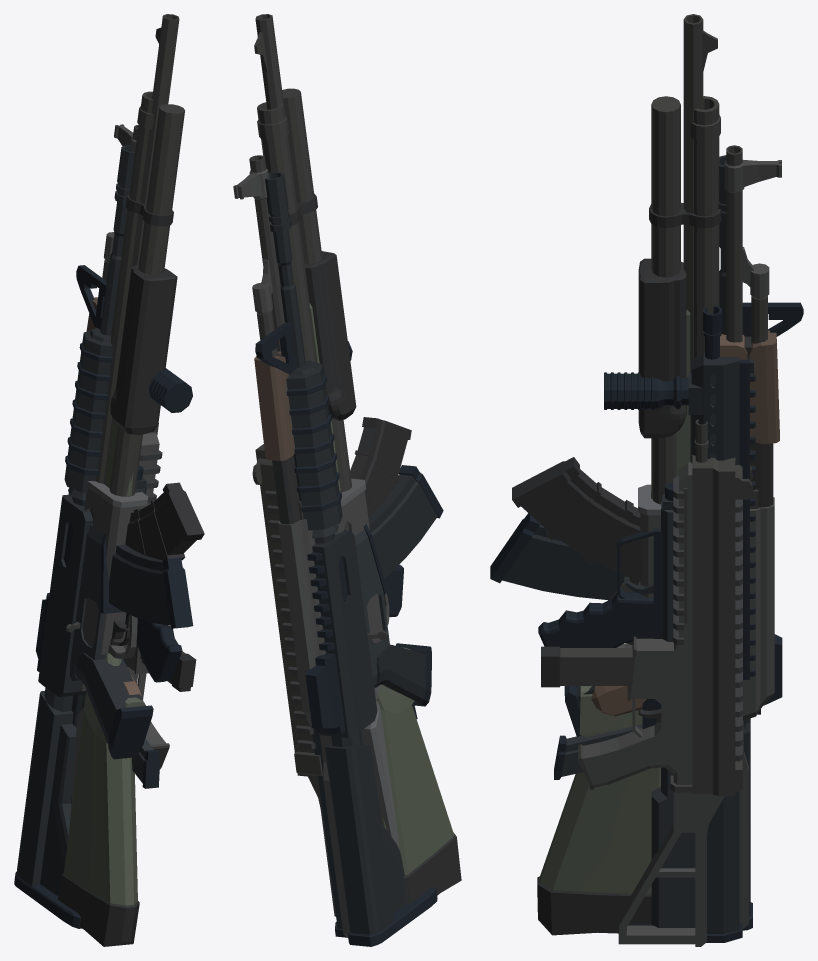
File: guns.glb
3 views of the same model, side by side, from view 1: azimuth 30°, elevation 25°; view 2: azimuth 150°, elevation 25°; view 3: azimuth 270°, elevation 25° (orthographic). The views are drawn at different scales.
Parts seen in each view (by area): view 1: Rack_5, Rack_3, Rack_0, Rack_4, Rack_1, Rack_2; view 2: Rack_5, Rack_4, Rack_3, Rack_0, Rack_2, Rack_1; view 3: Rack_2, Rack_1, Rack_4, Rack_0, Rack_3, Rack_5.
Boxes of the visible parts, <box> form: Rack_5: <box>14,145,193,928</box>; Rack_3: <box>70,91,184,822</box>; Rack_0: <box>58,14,179,946</box>; Rack_4: <box>68,124,204,696</box>; Rack_1: <box>71,368,192,804</box>; Rack_2: <box>125,423,196,769</box>; Rack_5: <box>255,172,443,946</box>; Rack_4: <box>233,155,411,937</box>; Rack_3: <box>257,88,398,847</box>; Rack_0: <box>254,14,461,903</box>; Rack_2: <box>252,444,335,916</box>; Rack_1: <box>311,341,417,937</box>; Rack_2: <box>541,419,752,946</box>; Rack_1: <box>538,305,755,942</box>; Rack_4: <box>512,145,781,928</box>; Rack_0: <box>537,14,717,935</box>; Rack_3: <box>611,96,721,647</box>; Rack_5: <box>490,155,803,930</box>.
Size of the model in its own units: 0.1812 by 1.04 by 0.3048.
